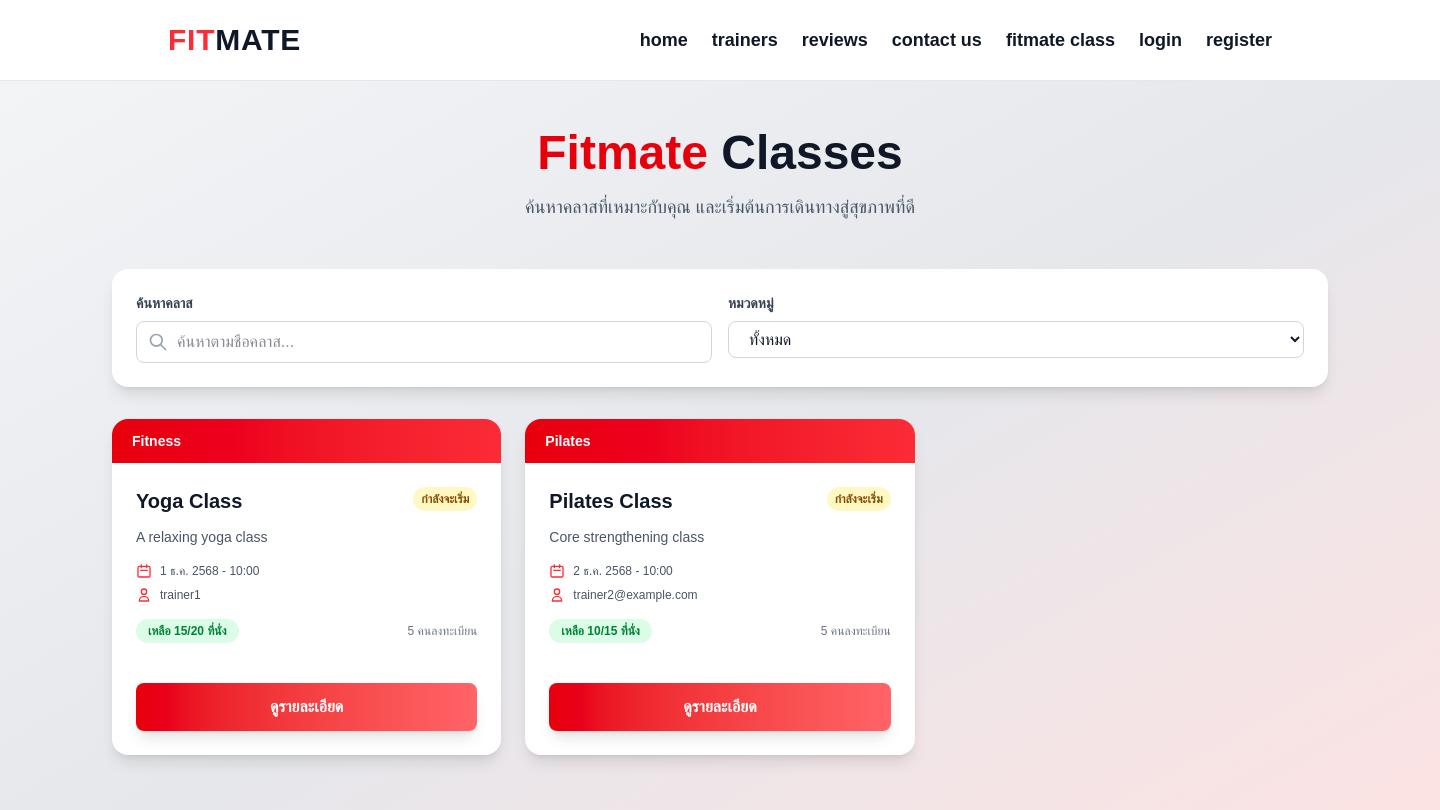
Test: ClassListPage › filters classes by search query
Expected: the heading "Yoga Class" is shown, top-left (136, 490), bottom-right (242, 512)
Step 1. Type "Yoga" into the field with placeholder "ค้นหาตามชื่อคลาส..." → (424, 342), box top-left (136, 321), bottom-right (712, 363)
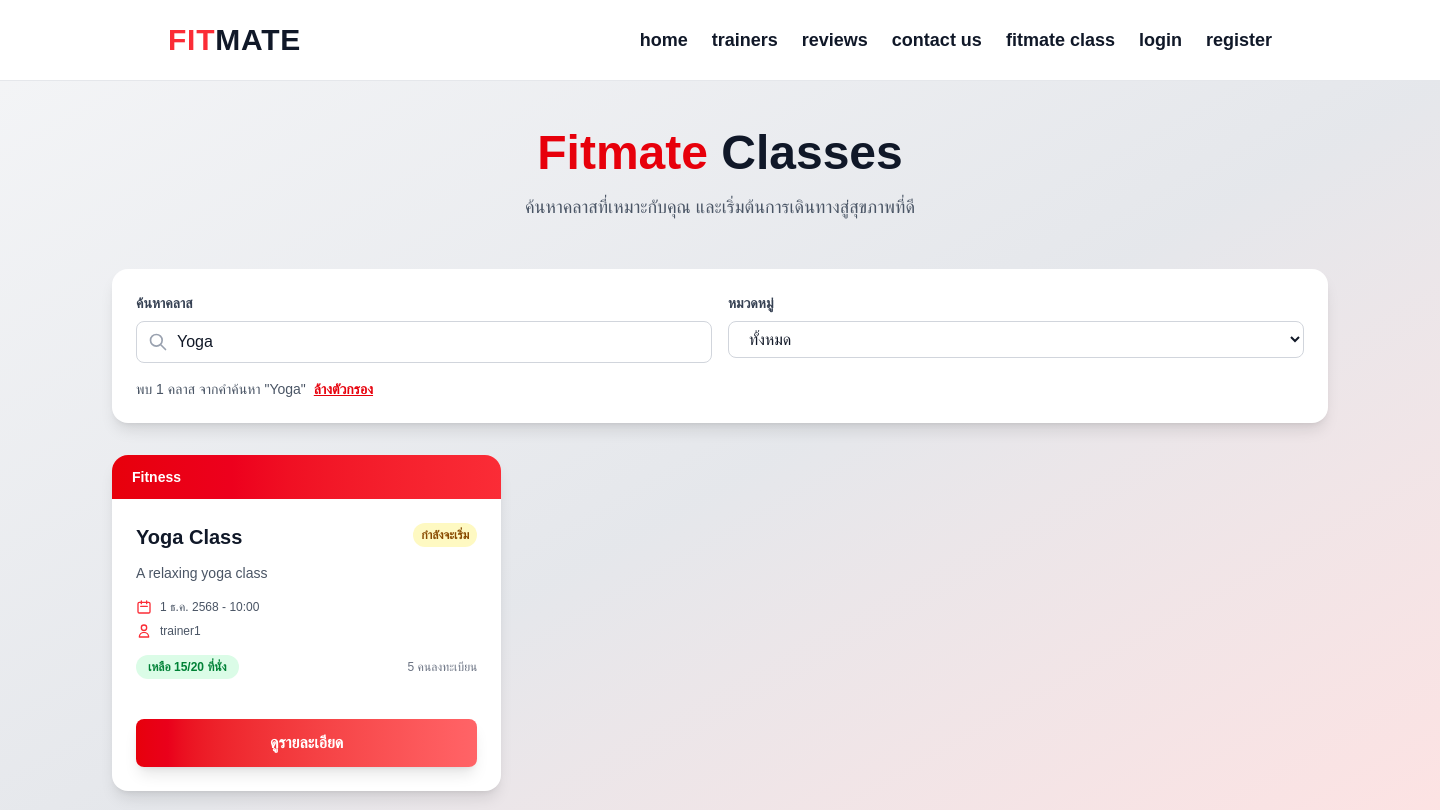
Expected: the heading "Yoga Class" is shown, top-left (136, 526), bottom-right (242, 548)
Result: the heading "Pilates Class" is gone
